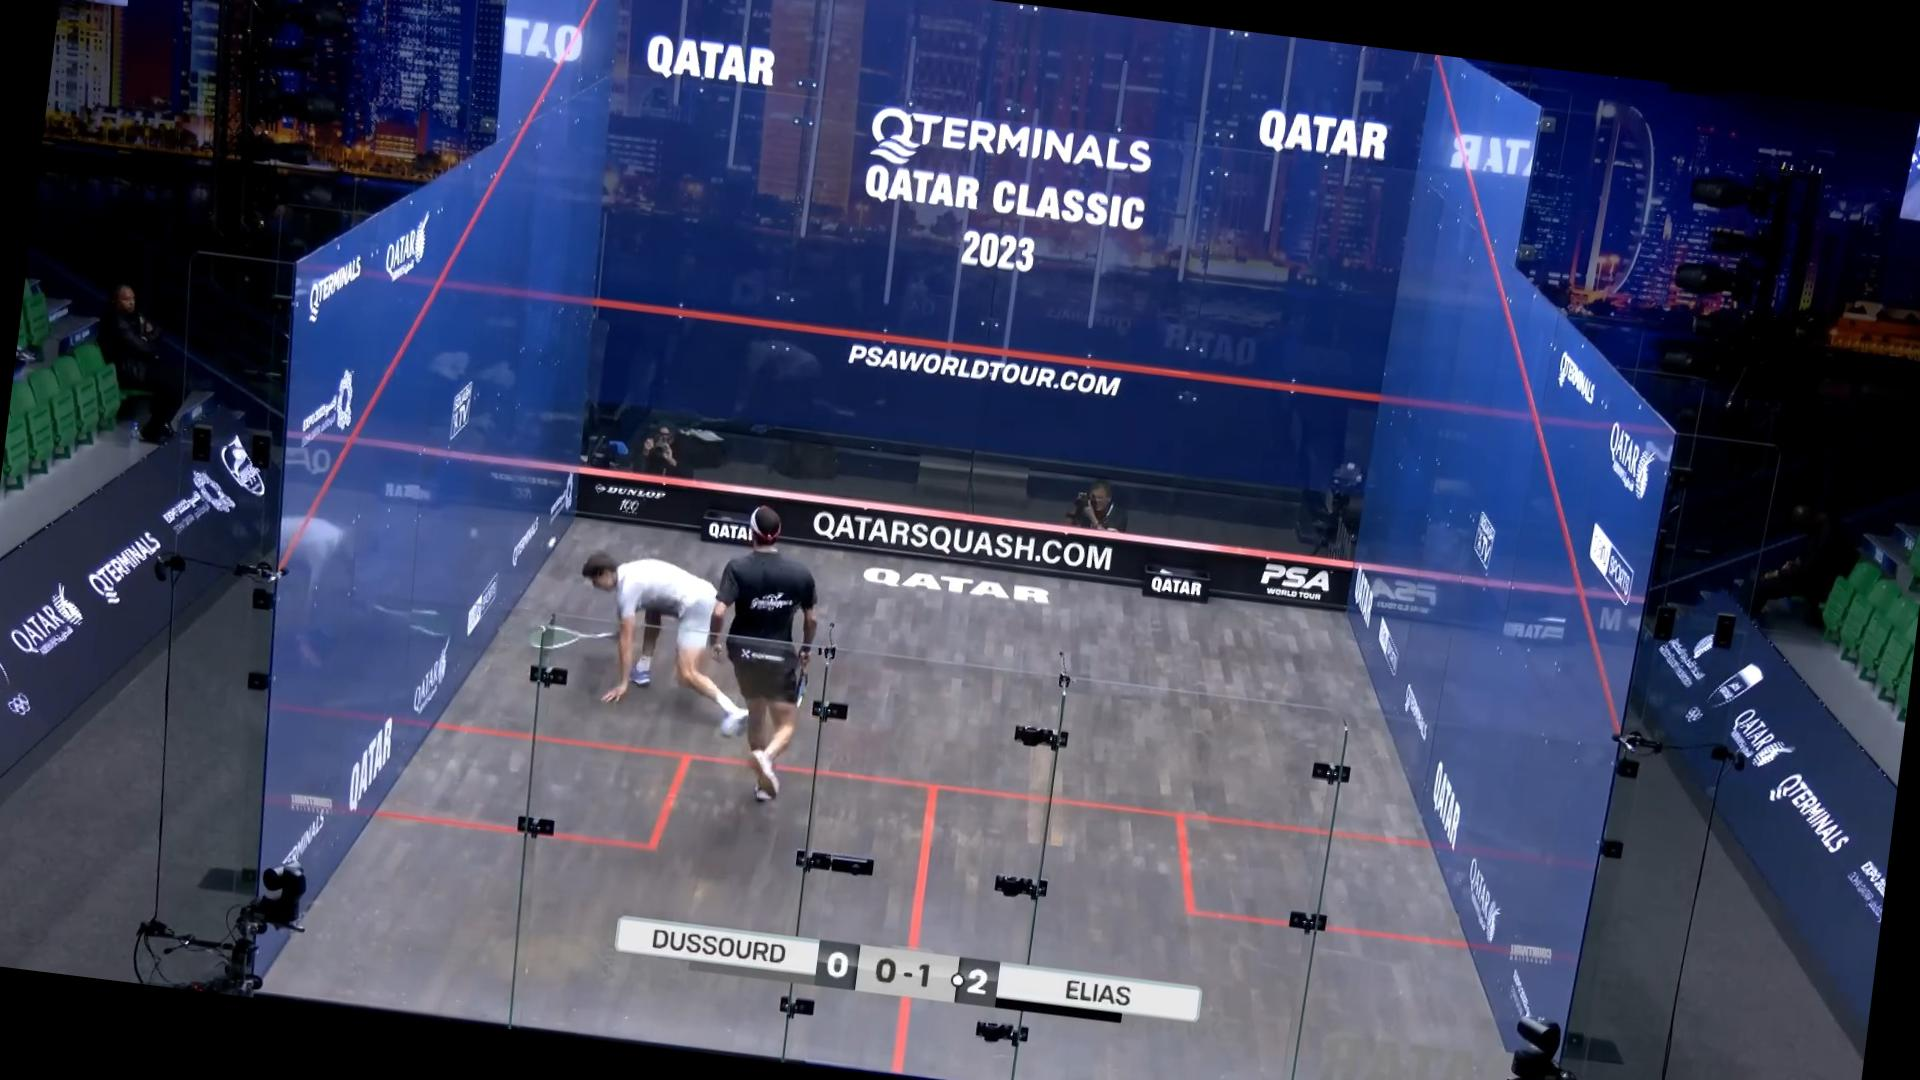Racket: (521, 615, 617, 667), (791, 667, 816, 713)
